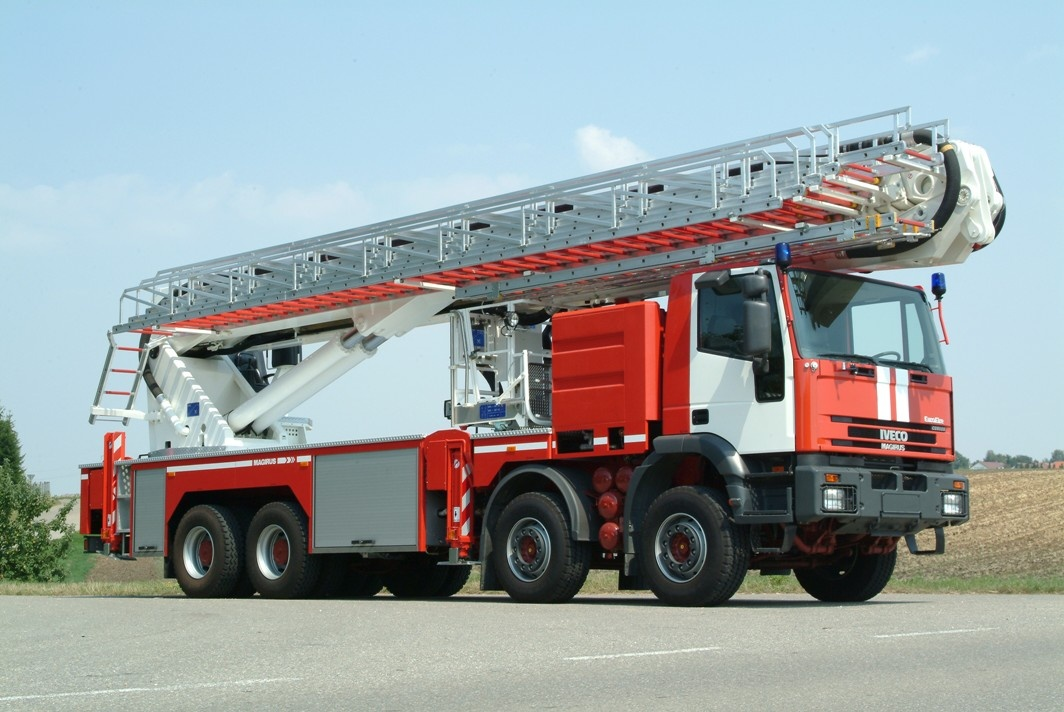fire engine: (64, 103, 994, 618)
